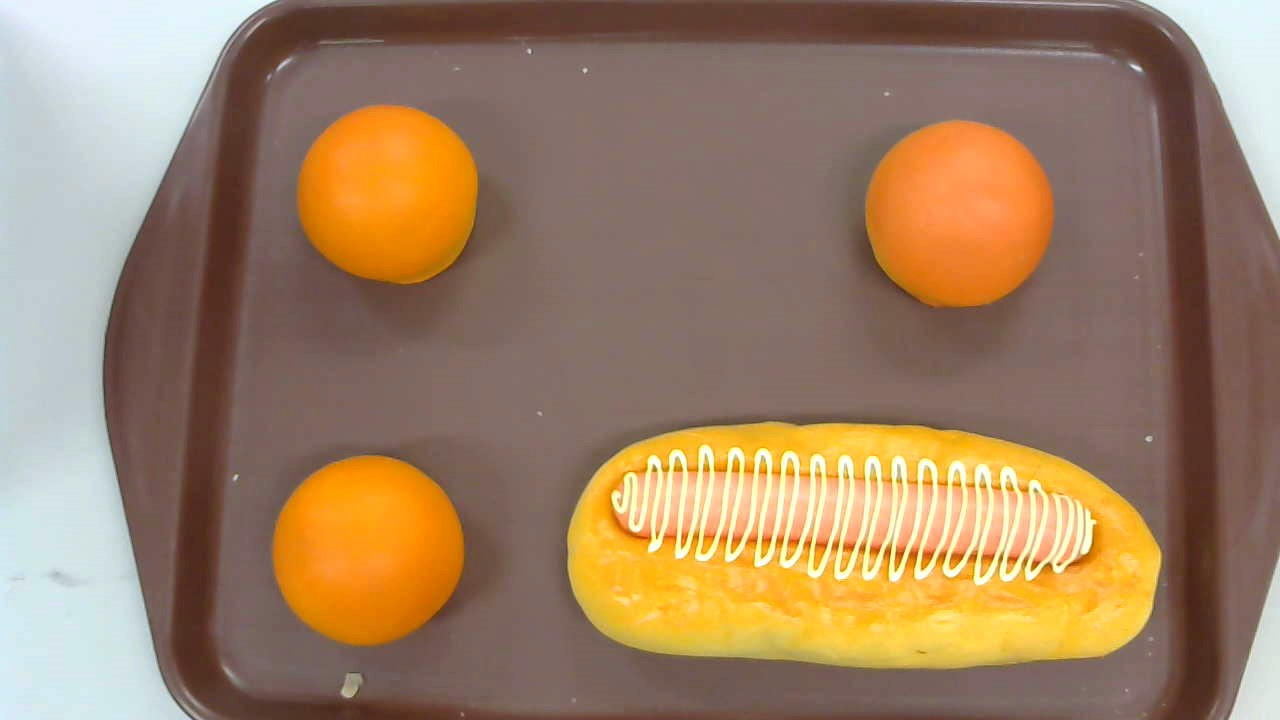bun: (272, 453, 465, 647), (864, 117, 1055, 309), (296, 103, 479, 284)
hot dog: (566, 419, 1162, 673)
